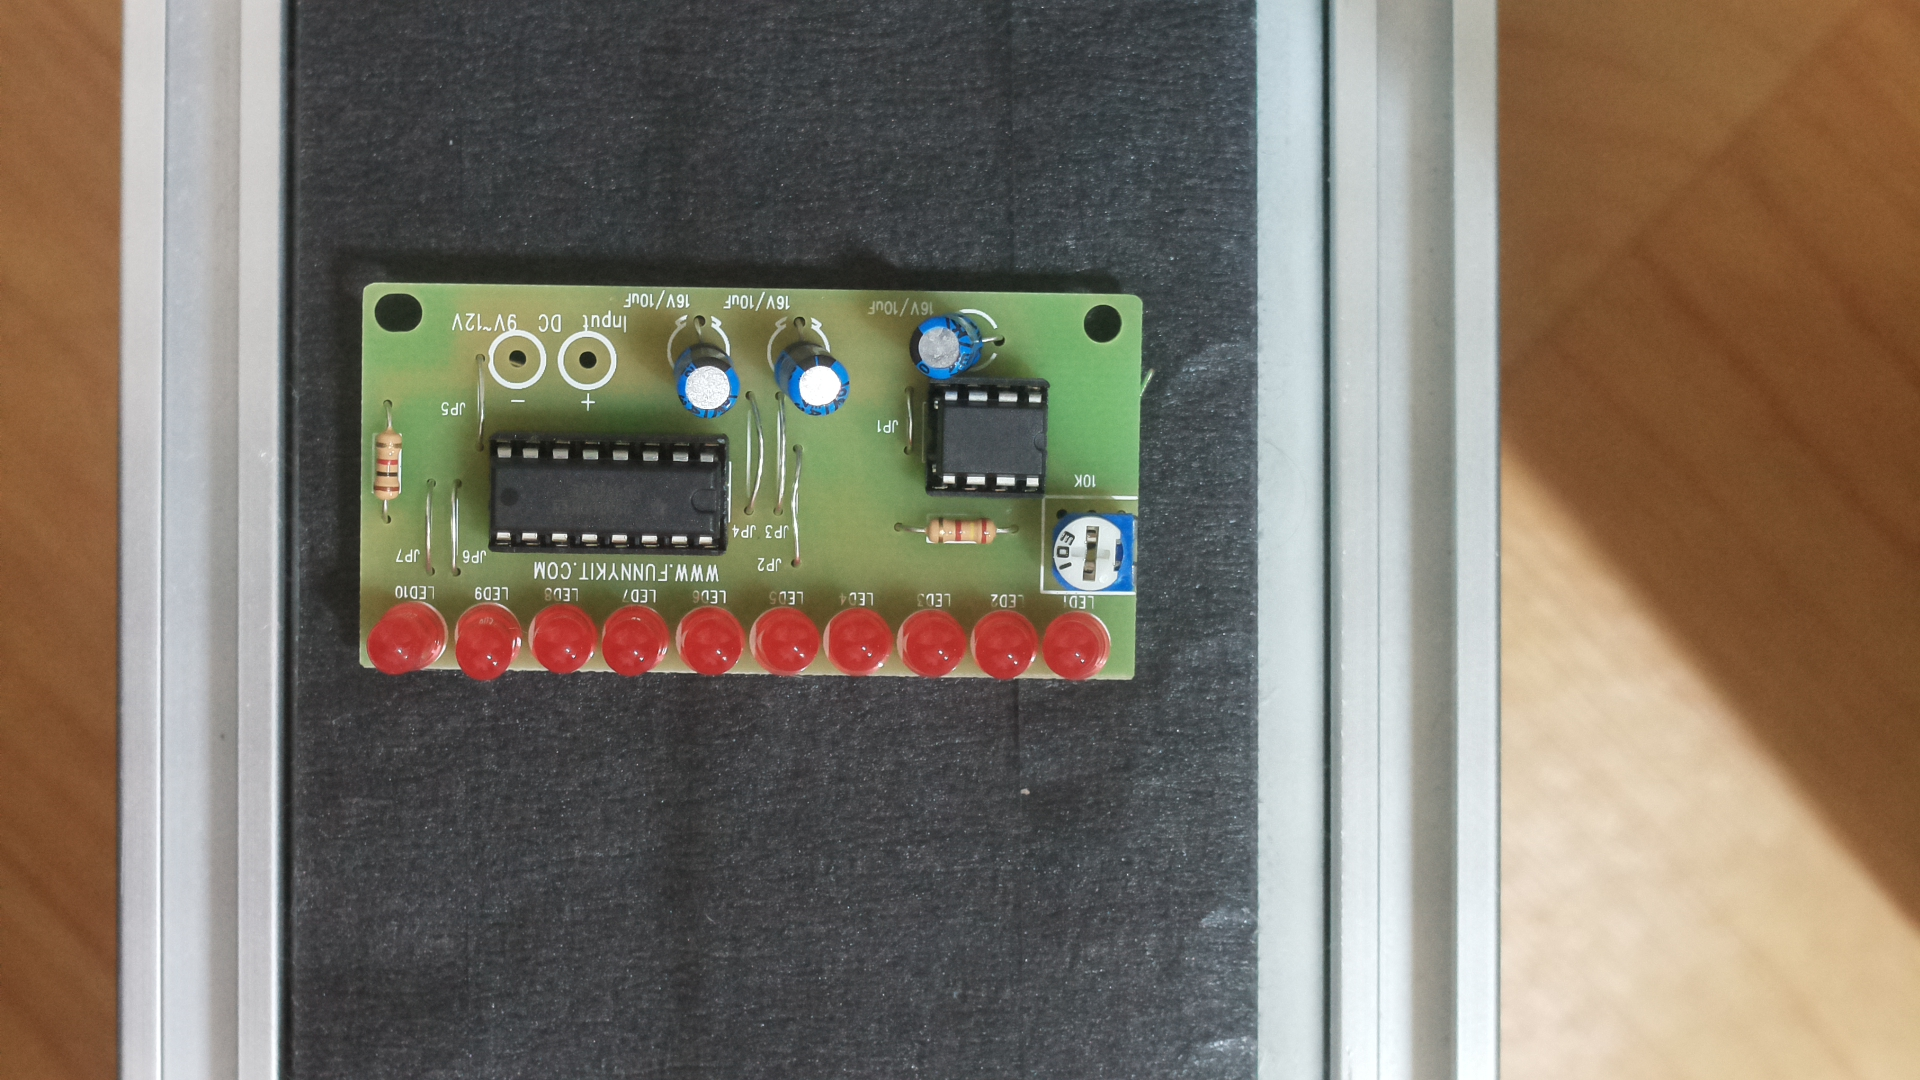B_Normal: (340, 260, 1163, 716)
